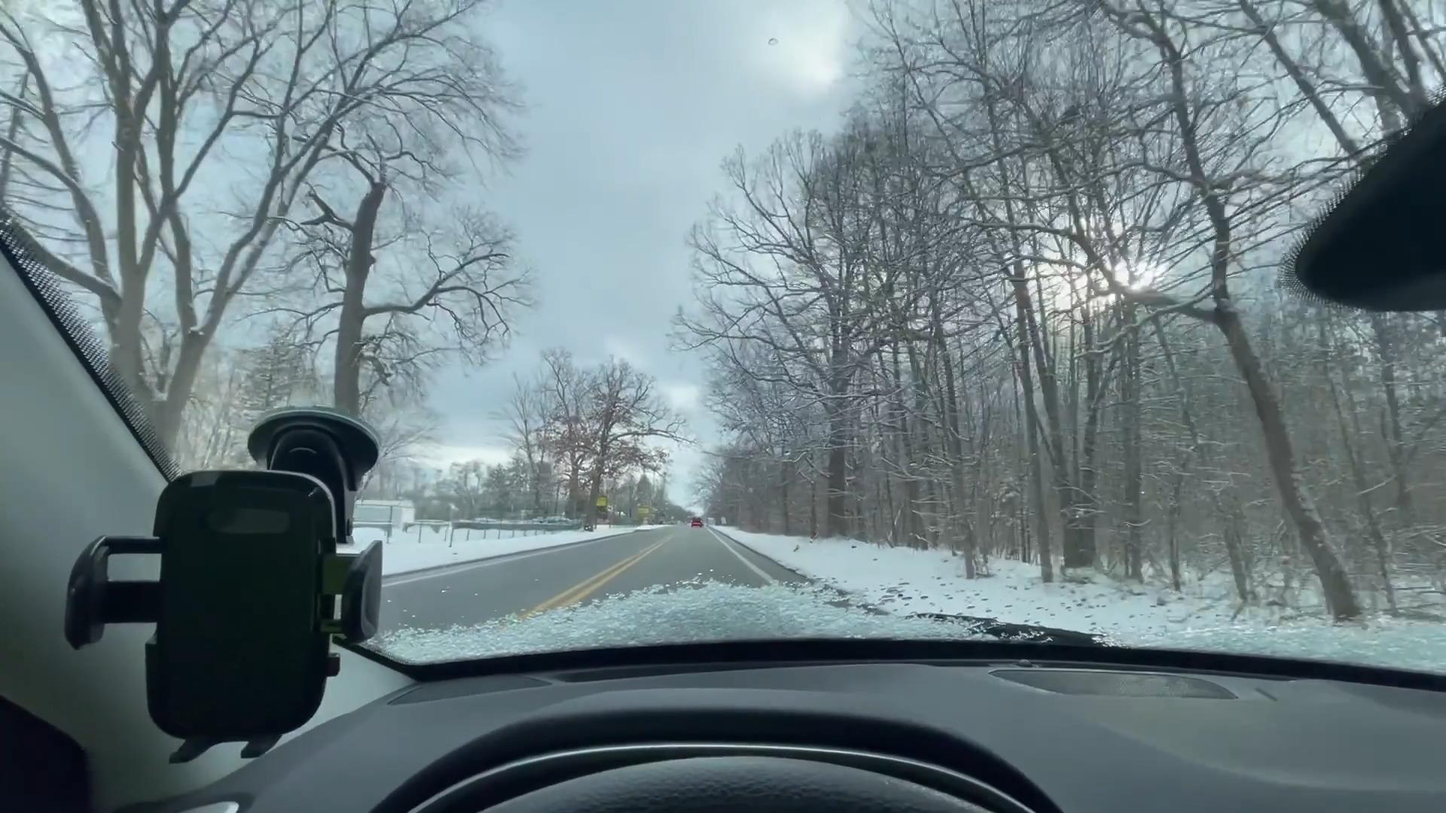Snow: (718, 525, 1445, 669), (359, 520, 660, 576)
dry: (375, 523, 813, 635)
